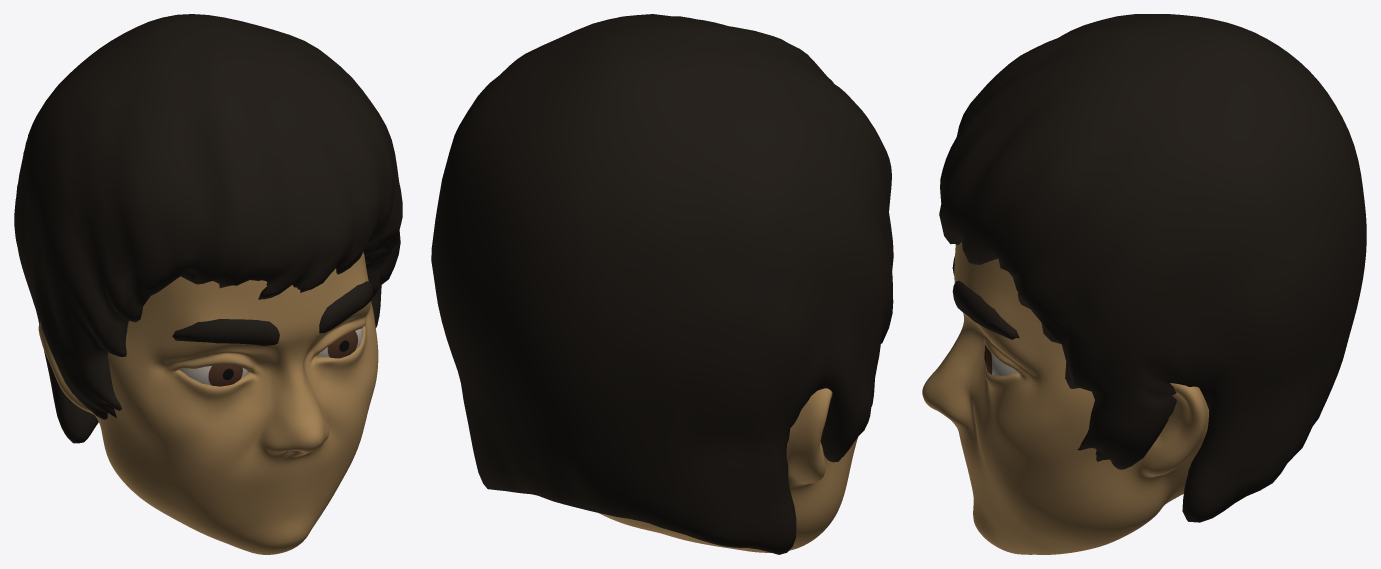
Rendered from head.fbx.
The picture shows the model from 3 angles, left to right: view 1: azimuth 30°, elevation 25°; view 2: azimuth 150°, elevation 25°; view 3: azimuth 270°, elevation 25°; orthographic projection. The views are drawn at different scales.
Visible parts, largest first — view 1: Head; view 2: Head; view 3: Head.
Boxes of the visible parts, left/top/right/bottom form: Head: left=14, top=14, right=402, bottom=554; Head: left=431, top=14, right=893, bottom=554; Head: left=922, top=14, right=1366, bottom=554.
Bounding box in the file's own units: 32.31 × 43.22 × 33.82.
Materials: 1 (1 with a texture image).
